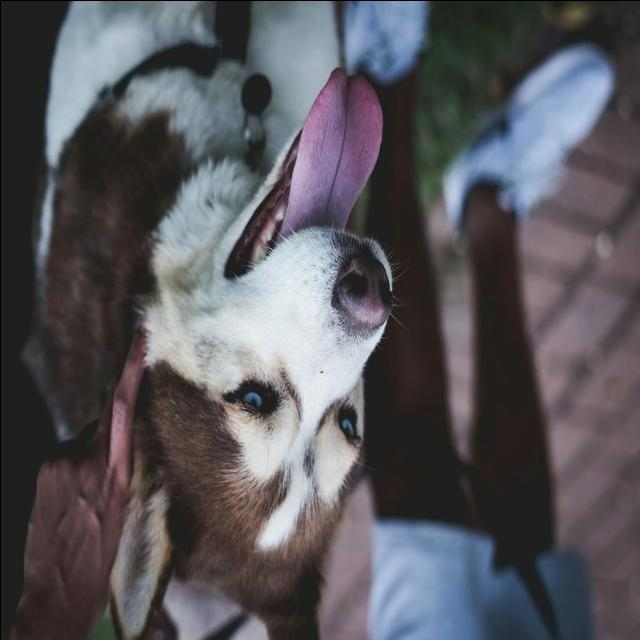husky: (15, 1, 407, 640)
